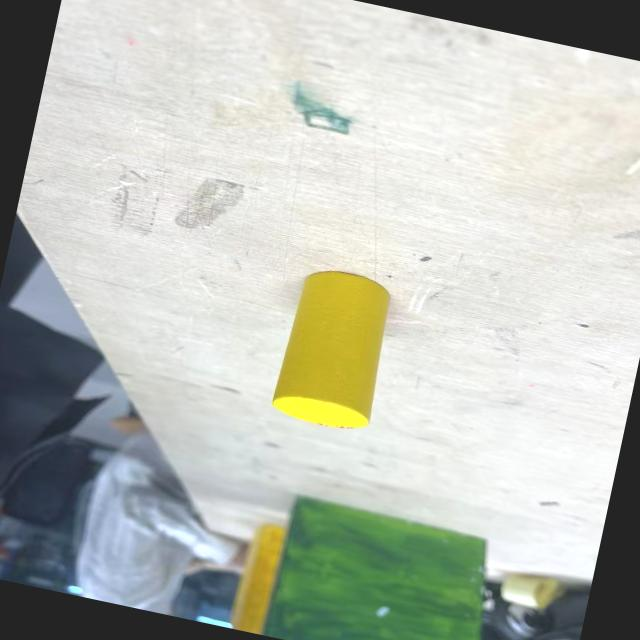yellow_cylinder: (269, 262, 399, 436)
